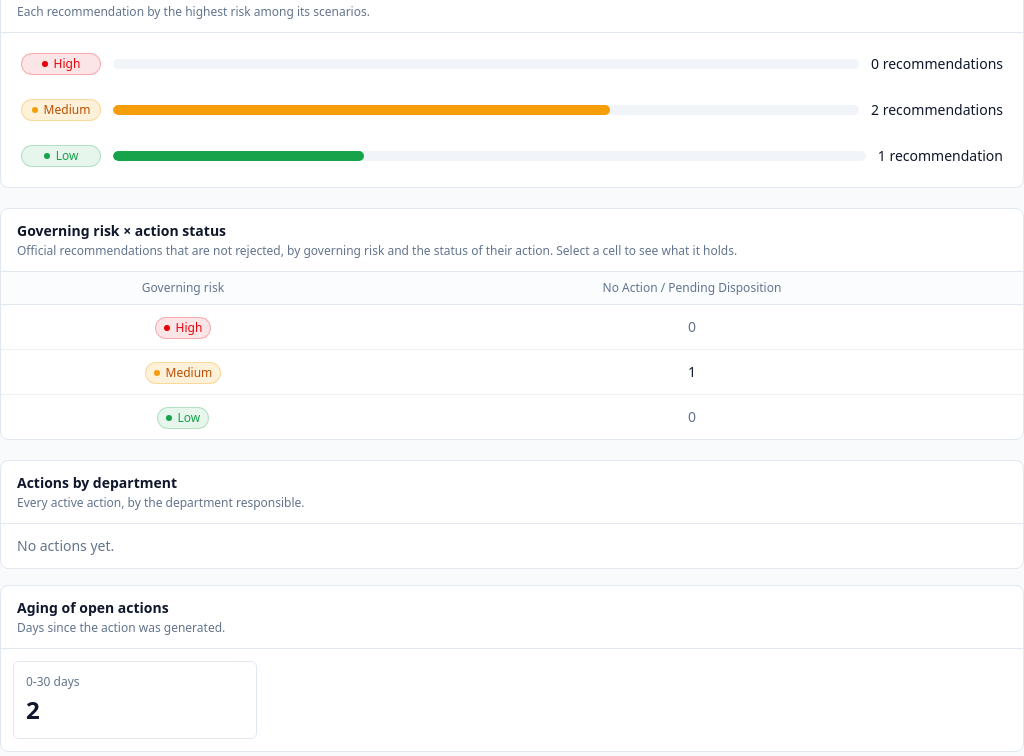
it: Command Center › selecting again clears the selection
(page scrolled)
Click the button "1". click: (692, 372)
box: [365,354,1019,390]
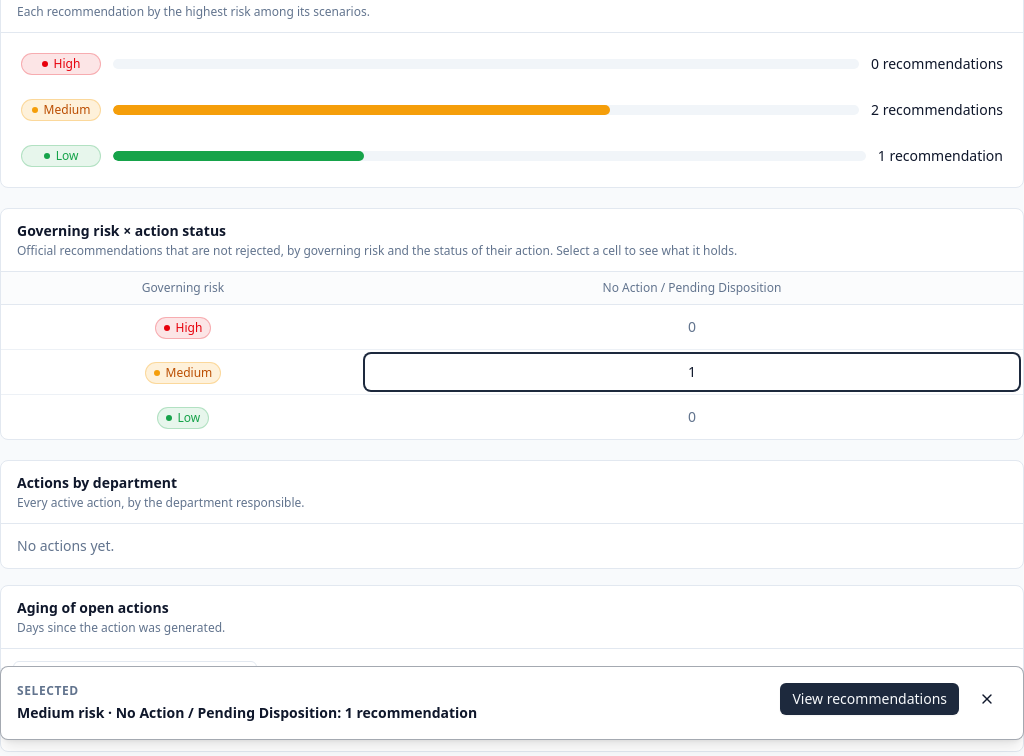
Click the button "1". click: (692, 372)
box: [365,354,1019,390]
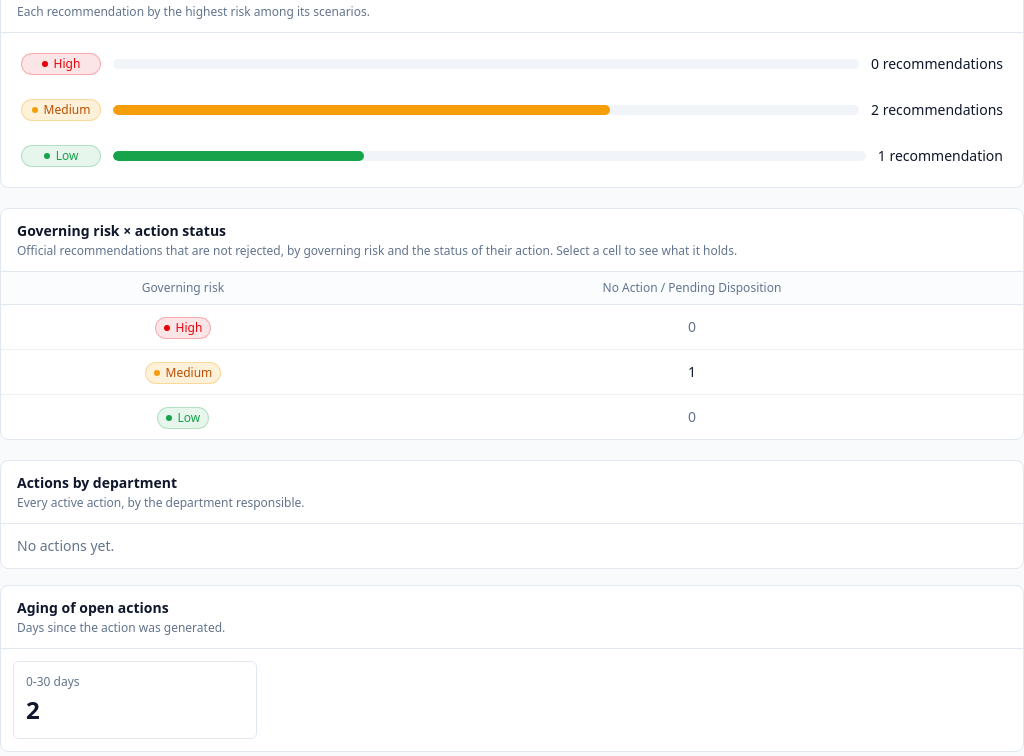
Check: the link "View recommendations" is gone
